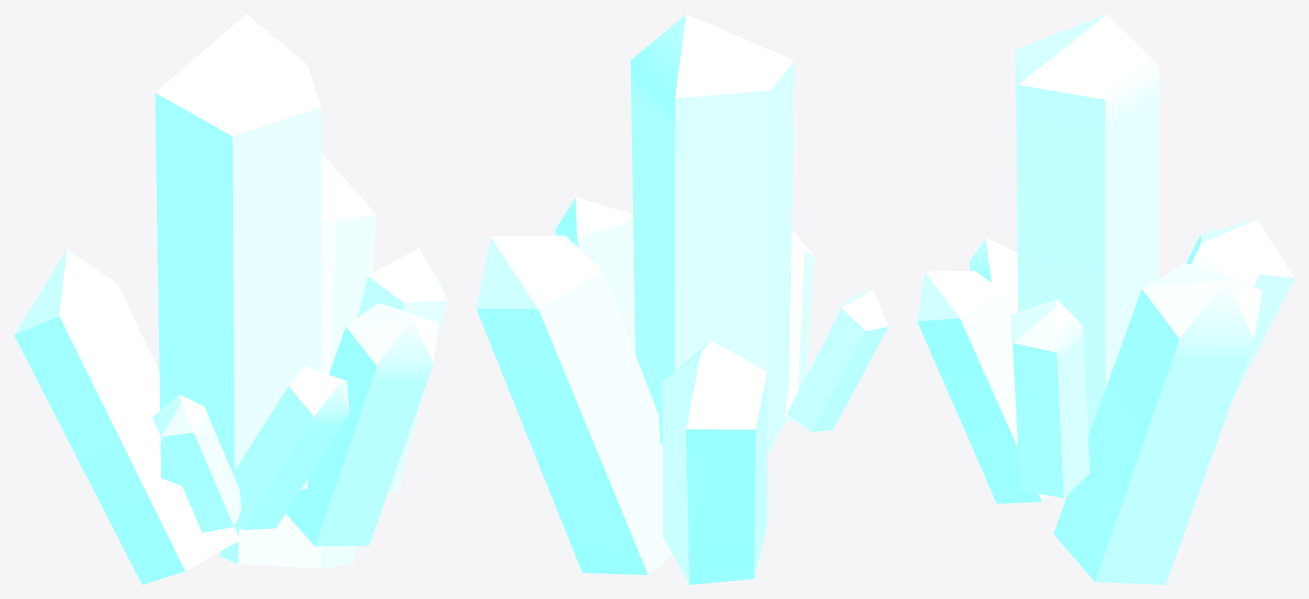
Rendered from Lightblue crystal.fbx.
The picture shows the model from 3 angles, left to right: view 1: azimuth 30°, elevation 25°; view 2: azimuth 150°, elevation 25°; view 3: azimuth 270°, elevation 25°; orthographic projection. The views are drawn at different scales.
Visible parts, largest first — view 1: Lightblue crystal; view 2: Lightblue crystal; view 3: Lightblue crystal.
Boxes of the visible parts, <box> form: Lightblue crystal: <box>14,14,447,584</box>; Lightblue crystal: <box>476,14,888,584</box>; Lightblue crystal: <box>917,14,1294,584</box>.
Bounding box in the file's own units: 440 × 762 × 486.
